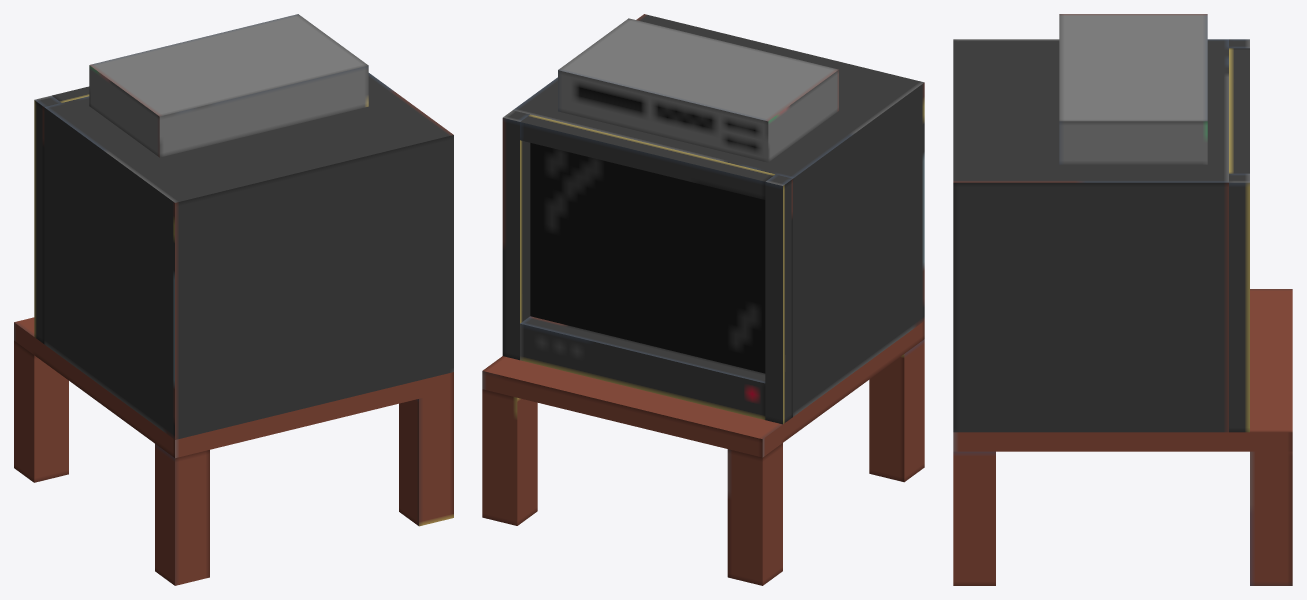
3 views of the same model, side by side, from view 1: azimuth 30°, elevation 25°; view 2: azimuth 150°, elevation 25°; view 3: azimuth 270°, elevation 25° (orthographic). The views are drawn at different scales.
Parts seen in each view (by area): view 1: cube.010; view 2: cube.010; view 3: cube.010.
Boxes of the visible parts, left/top/right/bottom form: cube.010: left=14, top=14, right=453, bottom=585; cube.010: left=482, top=14, right=924, bottom=585; cube.010: left=953, top=14, right=1292, bottom=585.
Bounding box in the file's own units: 1 × 1.45 × 1.
1 material, 1 textured.
